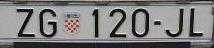-: (153, 20, 161, 25)
0: (132, 8, 149, 37)
1: (91, 9, 99, 38)
2: (109, 8, 126, 38)
G: (40, 9, 57, 37)
J: (165, 8, 184, 37)
L: (189, 8, 203, 37)
Z: (17, 9, 35, 37)
